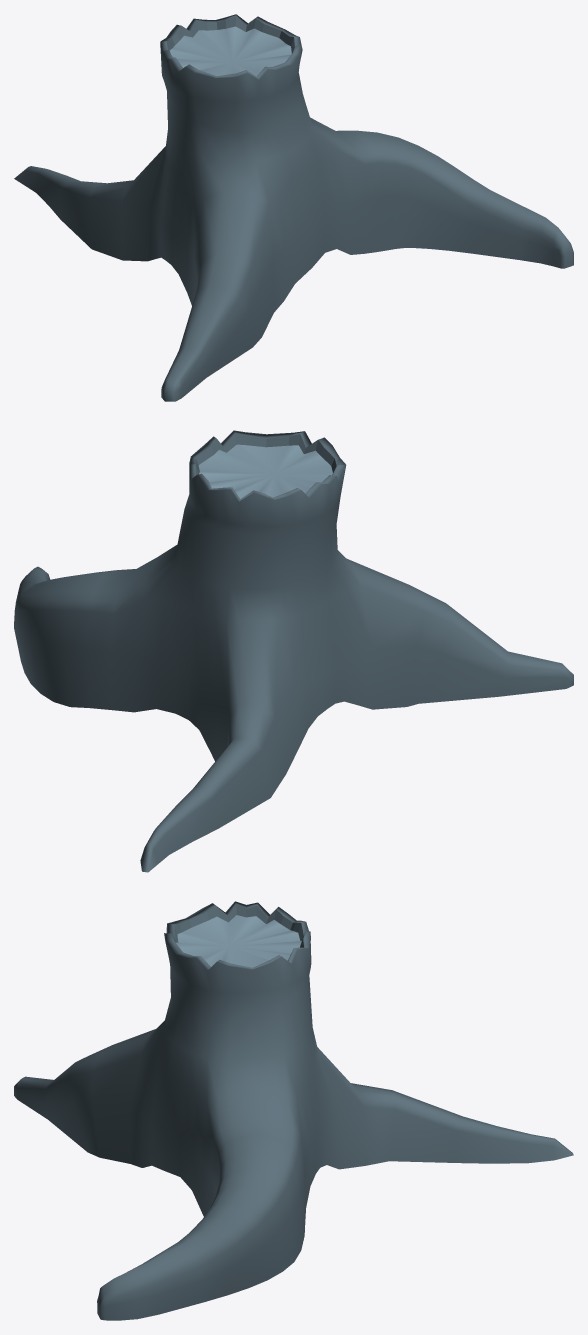
File: Tronco3.fbx
3 views of the same model, one above another, from view 1: azimuth 30°, elevation 25°; view 2: azimuth 150°, elevation 25°; view 3: azimuth 270°, elevation 25° (orthographic). The views are drawn at different scales.
Parts seen in each view (by area): view 1: Tronco3; view 2: Tronco3; view 3: Tronco3.
Part boxes in pixels (bbox=[...]): Tronco3: bbox=[14, 14, 573, 401]; Tronco3: bbox=[14, 430, 573, 872]; Tronco3: bbox=[14, 901, 573, 1320].
Size of the model in its own units: 405 by 208 by 424.
